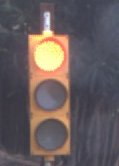Red: (19, 31, 91, 159)
